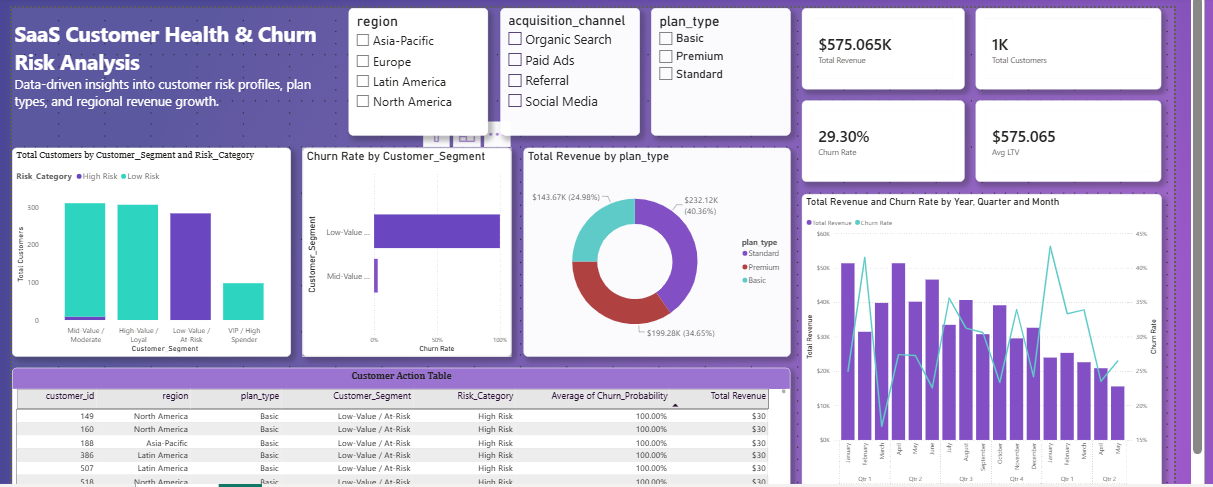

What the dashboard file says about the page in this screenshot:
{"tool":"powerbi","page":{"name":"Page 1","canvas":[2400,1050],"ordinal":0},"visuals":[{"type":"cardVisual","fields":{"Data":["final_customer_analytics.Total Customers"]},"box":[1992,0,384,168],"z":1000},{"type":"cardVisual","fields":{"Data":["final_customer_analytics.Total Revenue"]},"box":[1632,0,336,168],"z":2000},{"type":"cardVisual","fields":{"Data":["final_customer_analytics.Churn Rate"]},"box":[1632,192,336,168],"z":3000},{"type":"cardVisual","fields":{"Data":["final_customer_analytics.Avg LTV"]},"box":[1992,192,384,168],"z":4000},{"type":"columnChart","fields":{"Category":["final_customer_analytics.Customer_Segment"],"Y":["final_customer_analytics.Total Customers"],"Series":["final_customer_analytics.Risk_Category"]},"box":[0,288,576,432],"z":5000},{"type":"clusteredBarChart","fields":{"Category":["final_customer_analytics.Customer_Segment"],"Y":["final_customer_analytics.Churn Rate"]},"box":[600,288,432,432],"z":6000},{"type":"donutChart","fields":{"Category":["final_customer_analytics.plan_type"],"Y":["final_customer_analytics.Total Revenue"]},"box":[1056,288,552,432],"z":7000},{"type":"tableEx","title":"Customer Action Table","fields":{"Values":["final_customer_analytics.customer_id","final_customer_analytics.region","final_customer_analytics.plan_type","final_customer_analytics.Customer_Segment","final_customer_analytics.Risk_Category","Avg(final_customer_analytics.Churn_Probability)","final_customer_analytics.Total Revenue"]},"box":[0,744,1608,288],"z":8000},{"type":"slicer","fields":{"Values":["final_customer_analytics.region"]},"box":[696,0,288,264],"z":9000},{"type":"slicer","fields":{"Values":["final_customer_analytics.plan_type"]},"box":[1320,0,288,264],"z":10000},{"type":"slicer","fields":{"Values":["final_customer_analytics.acquisition_channel"]},"box":[1008,0,288,264],"z":11000},{"type":"lineClusteredColumnComboChart","fields":{"Y":["final_customer_analytics.Total Revenue"],"Y2":["final_customer_analytics.Churn Rate"],"Category":["final_customer_analytics.sub_start_date.Variation.Date Hierarchy.Year","final_customer_analytics.sub_start_date.Variation.Date Hierarchy.Quarter","final_customer_analytics.sub_start_date.Variation.Date Hierarchy.Month","final_customer_analytics.sub_start_date.Variation.Date Hierarchy.Day"]},"box":[1632,384,744,648],"z":13000},{"type":"textbox","box":[0,0,672,264],"z":13001}]}

Visuals, with their boxes on the page's 2400x1050 design canvas (x1, y1, x2, y2). These are canvas units, not pixel positions in the 1213x487 screenshot, which may show the page scaled, cropped or inside an application window:
cardVisual - final_customer_analytics.Total Customers: Rect(1992, 0, 2376, 168)
cardVisual - final_customer_analytics.Total Revenue: Rect(1632, 0, 1968, 168)
cardVisual - final_customer_analytics.Churn Rate: Rect(1632, 192, 1968, 360)
cardVisual - final_customer_analytics.Avg LTV: Rect(1992, 192, 2376, 360)
columnChart - final_customer_analytics.Customer_Segment x final_customer_analytics.Total Customers: Rect(0, 288, 576, 720)
clusteredBarChart - final_customer_analytics.Customer_Segment x final_customer_analytics.Churn Rate: Rect(600, 288, 1032, 720)
donutChart - final_customer_analytics.plan_type x final_customer_analytics.Total Revenue: Rect(1056, 288, 1608, 720)
"Customer Action Table" tableEx: Rect(0, 744, 1608, 1032)
slicer - final_customer_analytics.region: Rect(696, 0, 984, 264)
slicer - final_customer_analytics.plan_type: Rect(1320, 0, 1608, 264)
slicer - final_customer_analytics.acquisition_channel: Rect(1008, 0, 1296, 264)
lineClusteredColumnComboChart - final_customer_analytics.Total Revenue x final_customer_analytics.Churn Rate: Rect(1632, 384, 2376, 1032)
textbox: Rect(0, 0, 672, 264)
